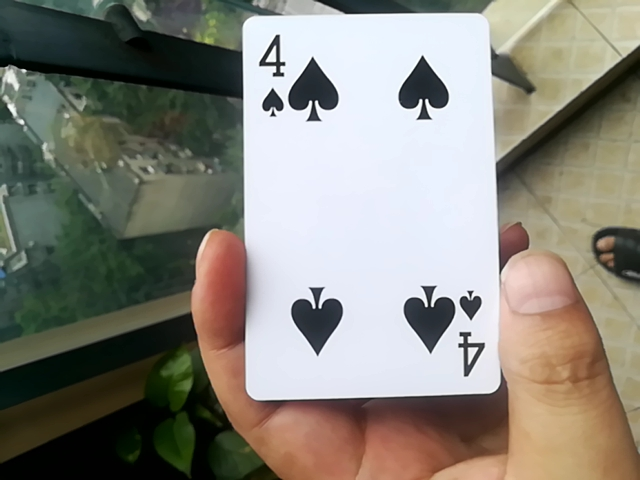ht 4: (243, 20, 508, 404)
